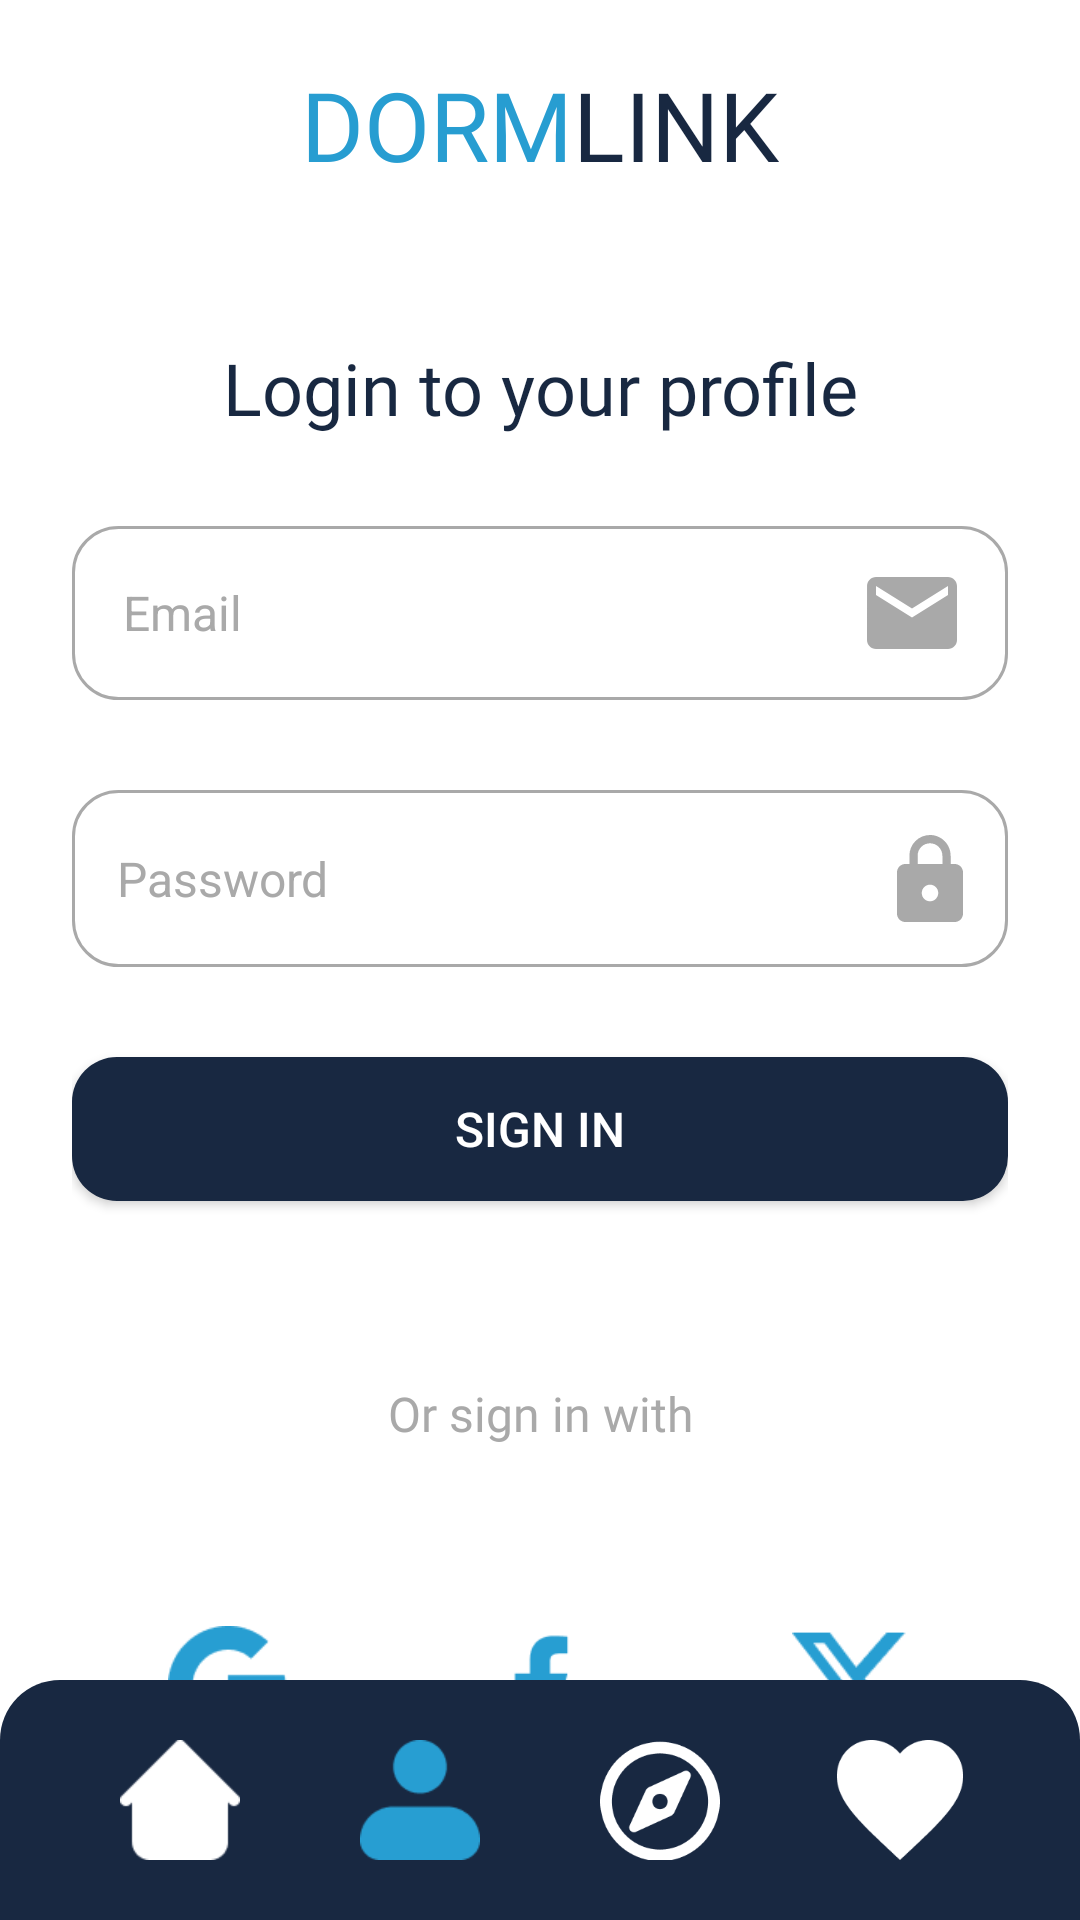

Screen size 1080×1920. Icon name, then its center in pixels as (x,y):
home: (180,1800)
liked: (900,1800)
profile: (420,1800)
